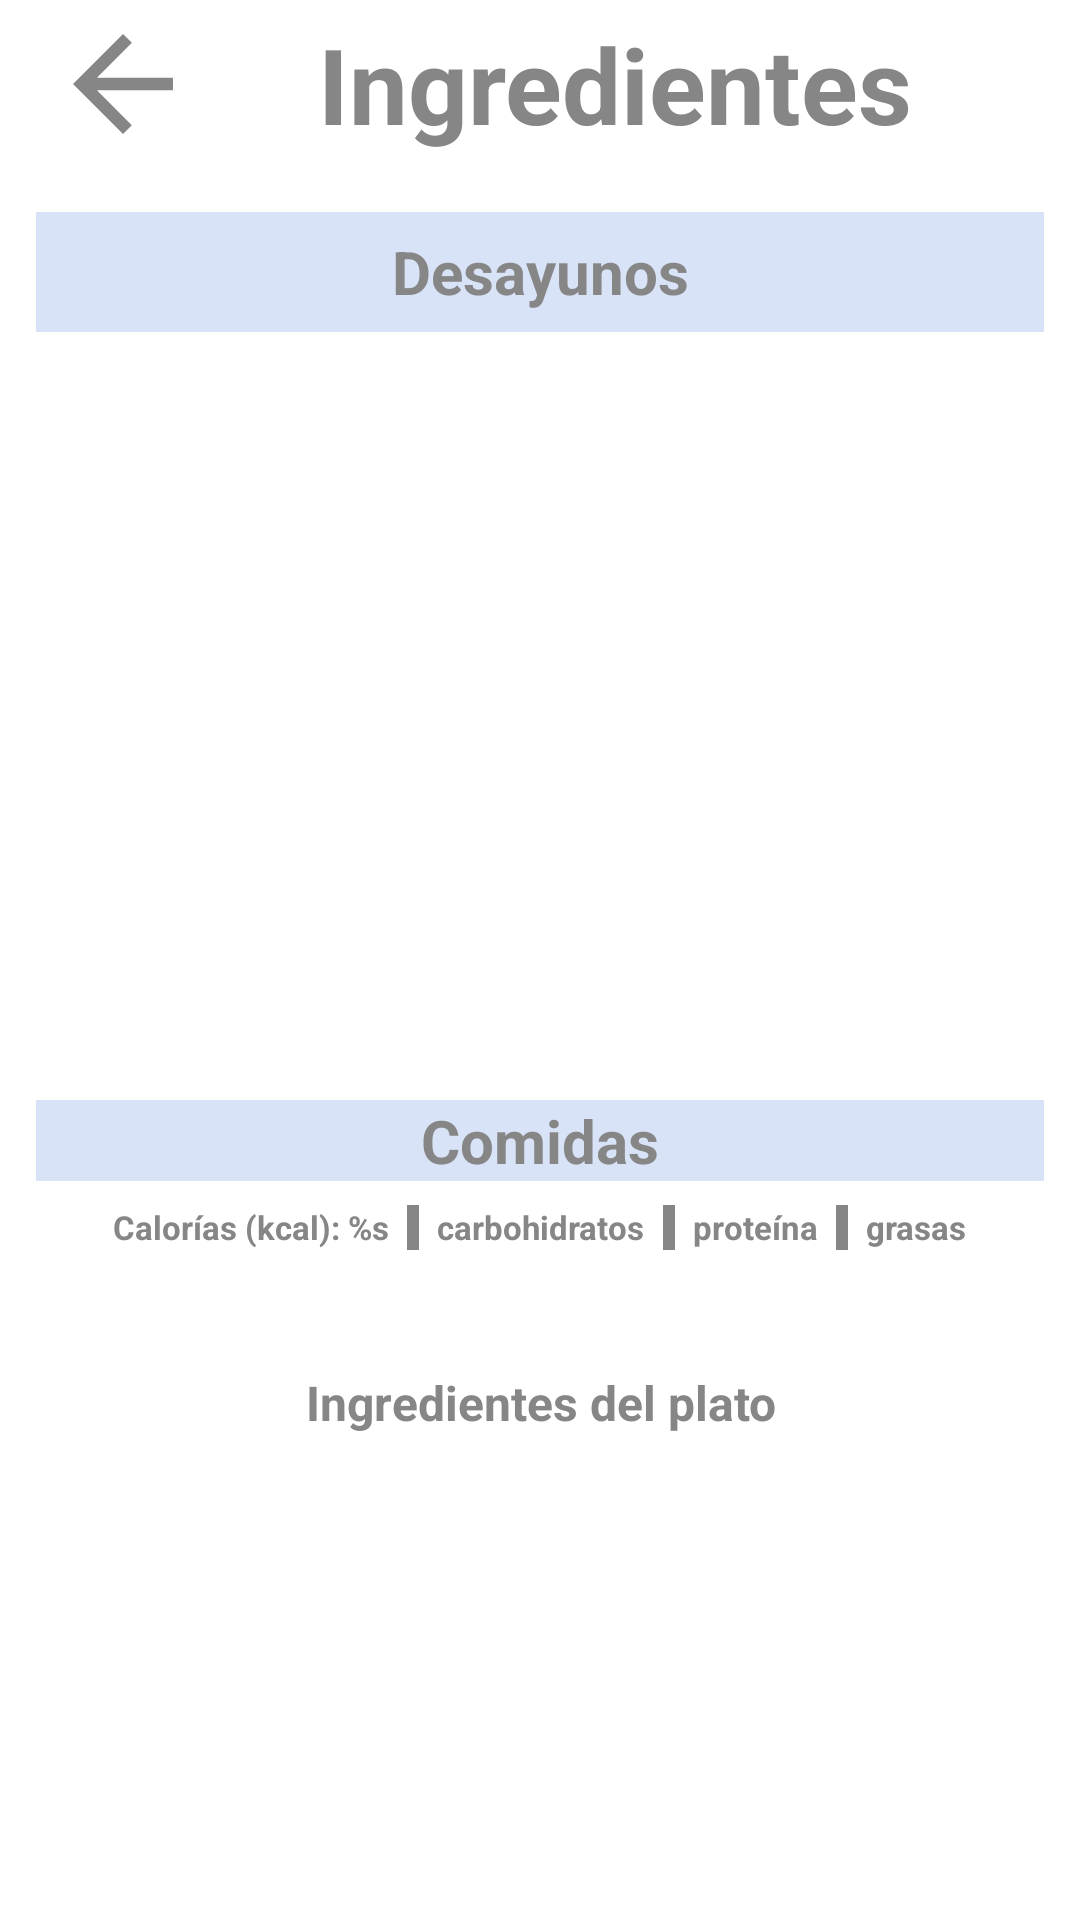

Icons on this 1080px×1920px Android screen, each with its box as (x1, y1, x2, y2):
Atrás: (73, 34, 173, 134)
